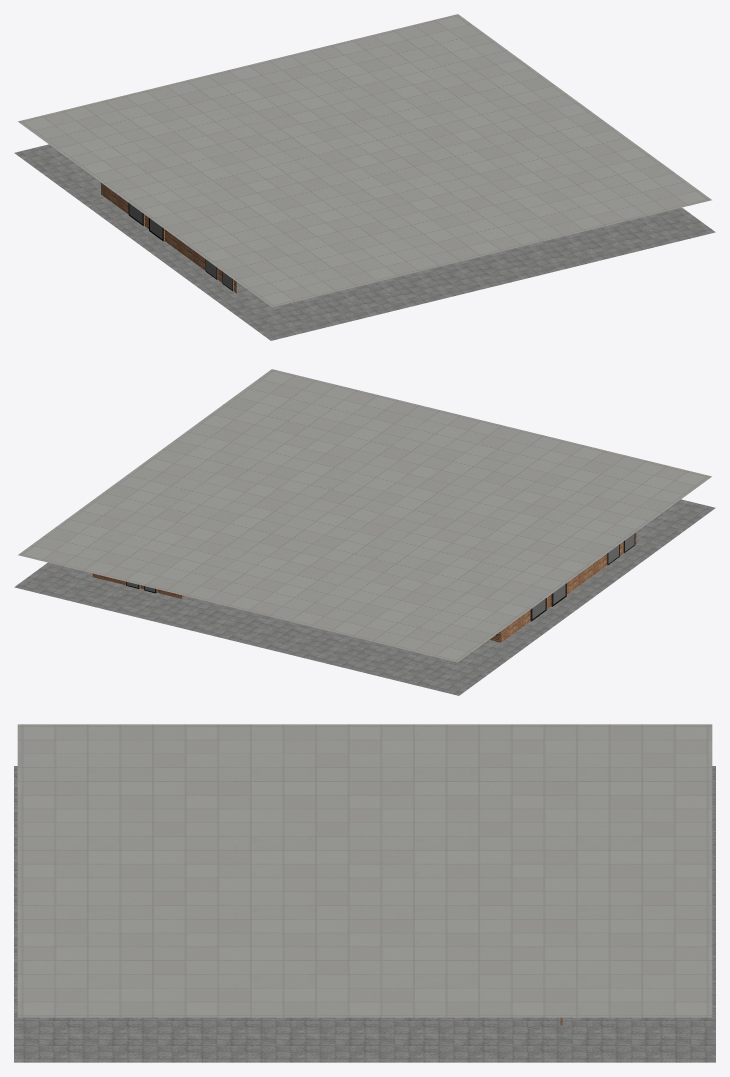
Rendered from pasilloA4.fbx.
3 views of the same model, one above another, from view 1: azimuth 30°, elevation 25°; view 2: azimuth 150°, elevation 25°; view 3: azimuth 270°, elevation 25° (orthographic). The views are drawn at different scales.
Parts seen in each view (by area): view 1: Plane, Plane.001, Cube; view 2: Plane, Plane.001, Cube; view 3: Plane, Plane.001.
Part boxes in pixels (<box>): Plane: <box>18,14,711,307</box>; Plane.001: <box>14,144,715,340</box>; Cube: <box>101,183,236,293</box>; Plane: <box>18,369,711,662</box>; Plane.001: <box>14,499,715,695</box>; Cube: <box>92,532,636,642</box>; Plane: <box>17,724,712,1017</box>; Plane.001: <box>14,766,715,1062</box>.
Size of the model in its own units: 5956 by 406 by 5956.
6 materials, 4 textured.
